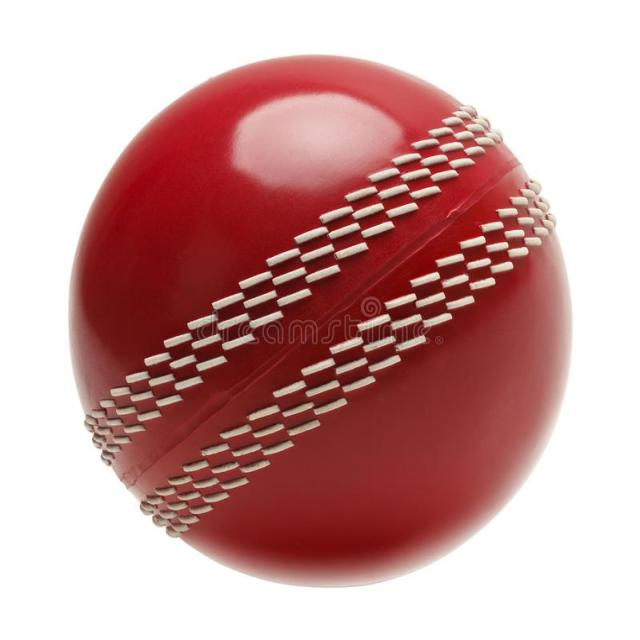ball: (74, 55, 576, 593)
